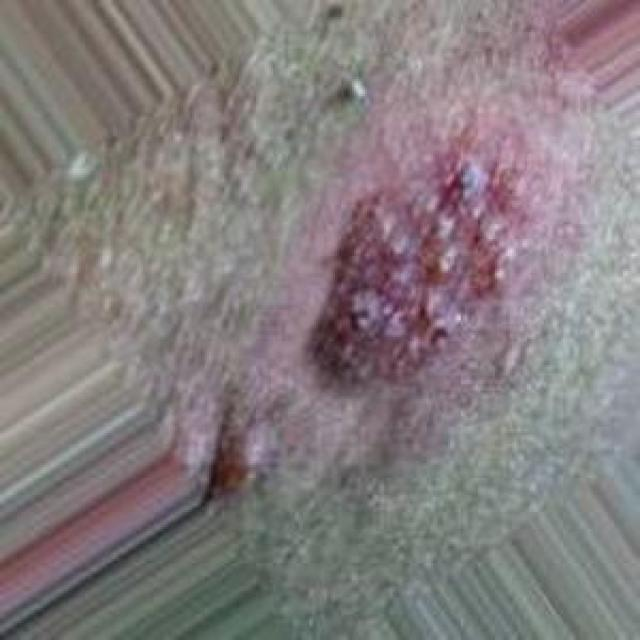Shingles: (304, 146, 532, 398)
